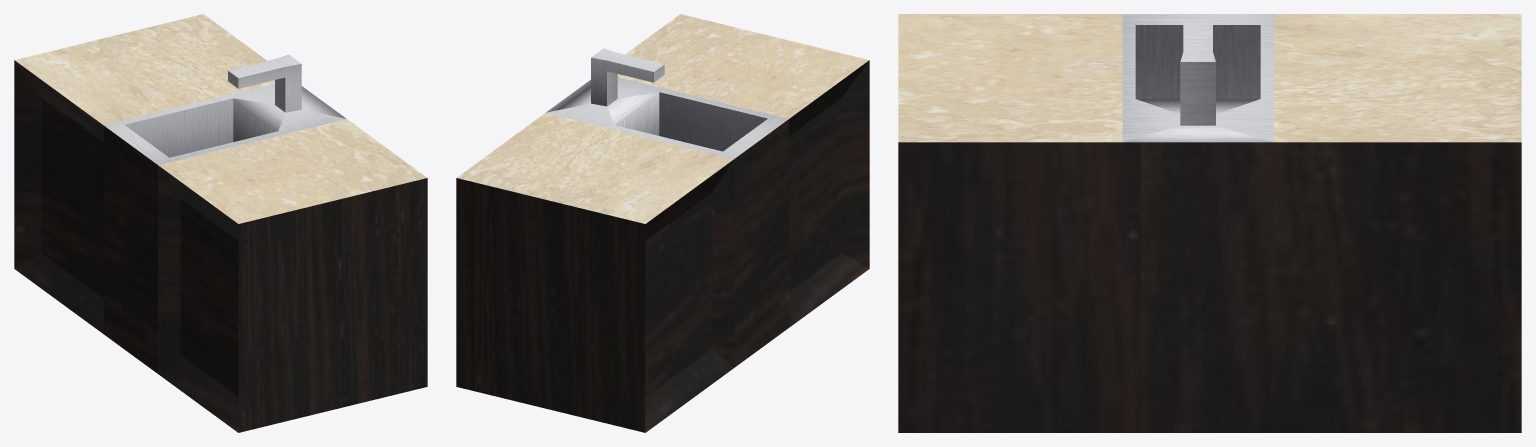
The model's file is sink3.fbx.
The picture shows the model from 3 angles, left to right: view 1: azimuth 30°, elevation 25°; view 2: azimuth 150°, elevation 25°; view 3: azimuth 270°, elevation 25°; orthographic projection. The views are drawn at different scales.
Visible parts, largest first — view 1: pCube1; view 2: pCube1; view 3: pCube1.
Part boxes in pixels (<box>): pCube1: <box>14,14,427,432</box>; pCube1: <box>456,14,869,432</box>; pCube1: <box>898,14,1521,432</box>.
Size of the model in its own units: 0.8416 by 1.08 by 1.73.
1 material, 1 textured.
